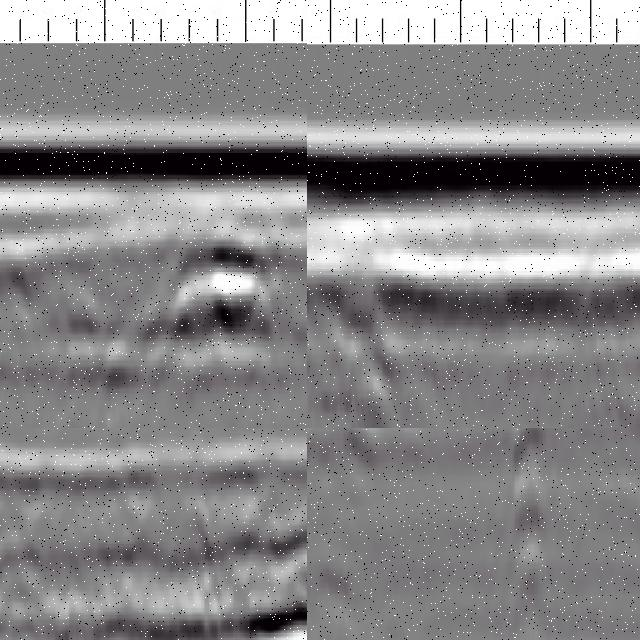crack: (508, 429, 547, 640)
loose: (89, 536, 308, 640), (132, 226, 280, 368), (308, 315, 403, 429)
